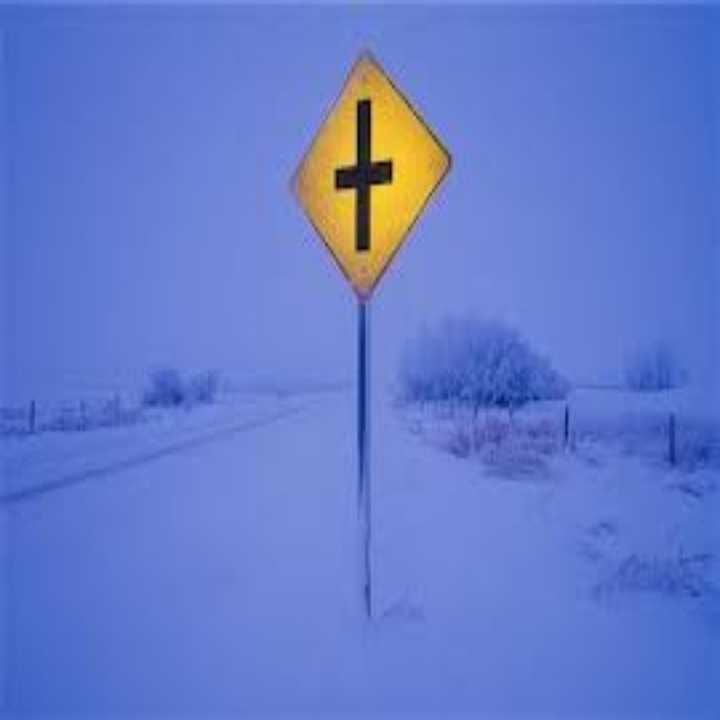inter: (333, 89, 396, 254)
